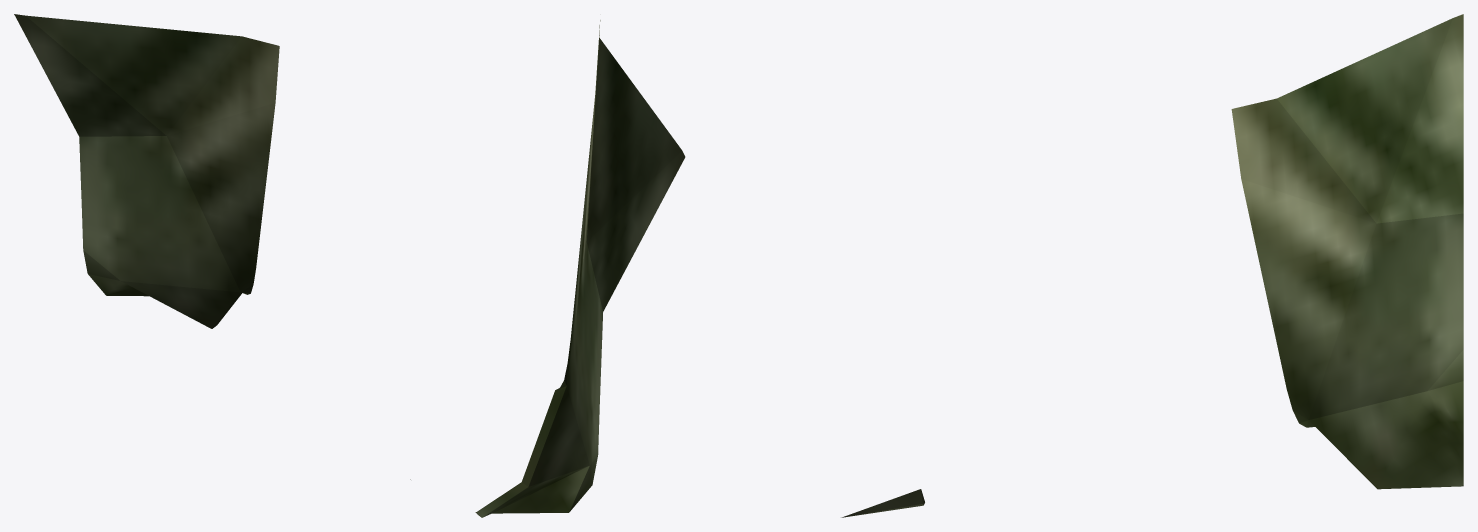
The picture shows the model from 3 angles, left to right: view 1: azimuth 30°, elevation 25°; view 2: azimuth 150°, elevation 25°; view 3: azimuth 270°, elevation 25°; orthographic projection. The views are drawn at different scales.
Bounding box in the file's own units: 0.7674 × 1.54 × 2.13.
1 material, 1 textured.
